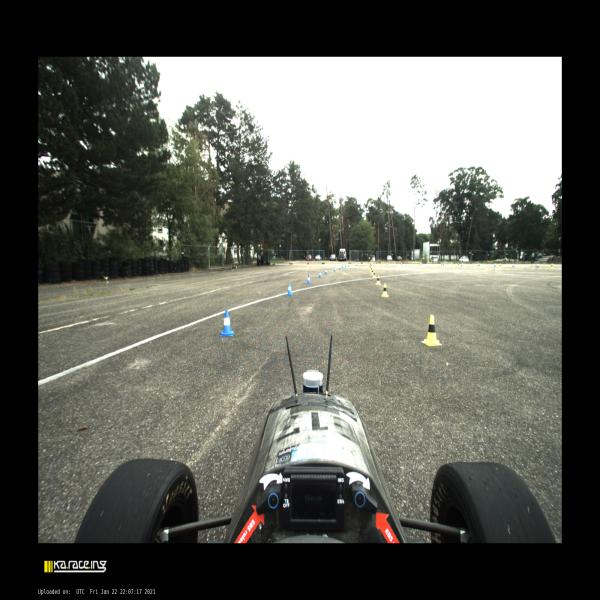blue_cone: (220, 310, 234, 337), (286, 283, 293, 296), (306, 275, 311, 284), (318, 271, 322, 278), (325, 268, 328, 274), (347, 262, 350, 266), (512, 263, 515, 267), (340, 265, 342, 270), (334, 267, 336, 272), (537, 263, 539, 268), (494, 262, 496, 266), (344, 264, 346, 267), (355, 263, 357, 266), (386, 262, 388, 265), (420, 262, 422, 265), (461, 263, 463, 266), (477, 263, 479, 266), (443, 262, 444, 266), (342, 265, 343, 268), (401, 262, 402, 265)
yellow_cone: (421, 315, 442, 346), (381, 284, 389, 298), (376, 276, 381, 284), (373, 270, 376, 278), (550, 263, 554, 269), (499, 263, 502, 268), (371, 269, 373, 275), (478, 264, 481, 267), (370, 268, 372, 272), (369, 266, 371, 270), (458, 262, 460, 266), (396, 262, 398, 265), (417, 263, 419, 266), (381, 262, 382, 266), (372, 263, 373, 266), (441, 263, 442, 266)
